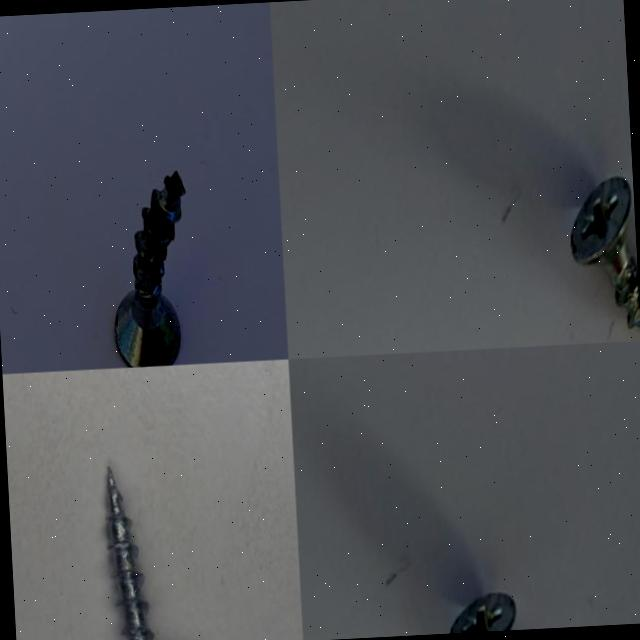Screw: (115, 170, 185, 367), (571, 176, 640, 328), (108, 467, 154, 640), (450, 593, 516, 634)
